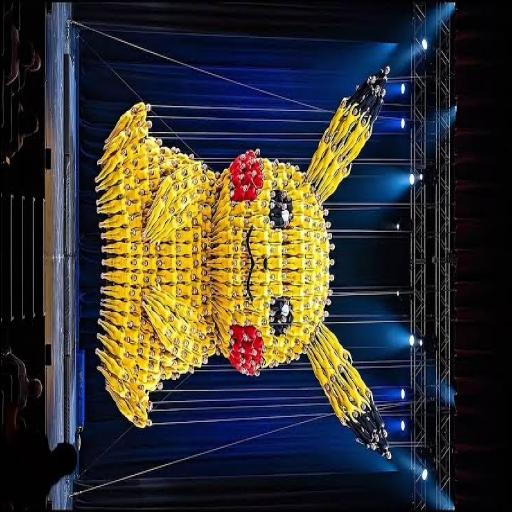Pikachu: (92, 60, 392, 464)
